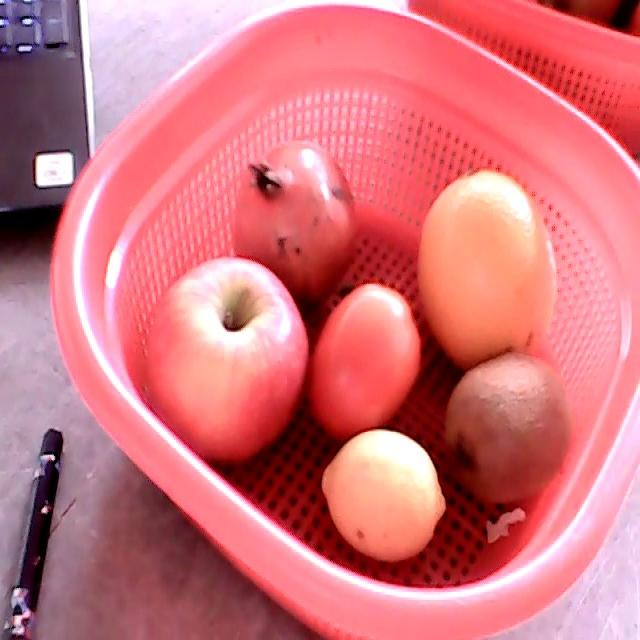apple: (147, 255, 310, 461)
kiwi: (444, 350, 572, 501)
lemon: (323, 429, 446, 558)
orange: (419, 170, 559, 370)
pomegranate: (232, 141, 357, 299)
tomato: (310, 284, 422, 437)
